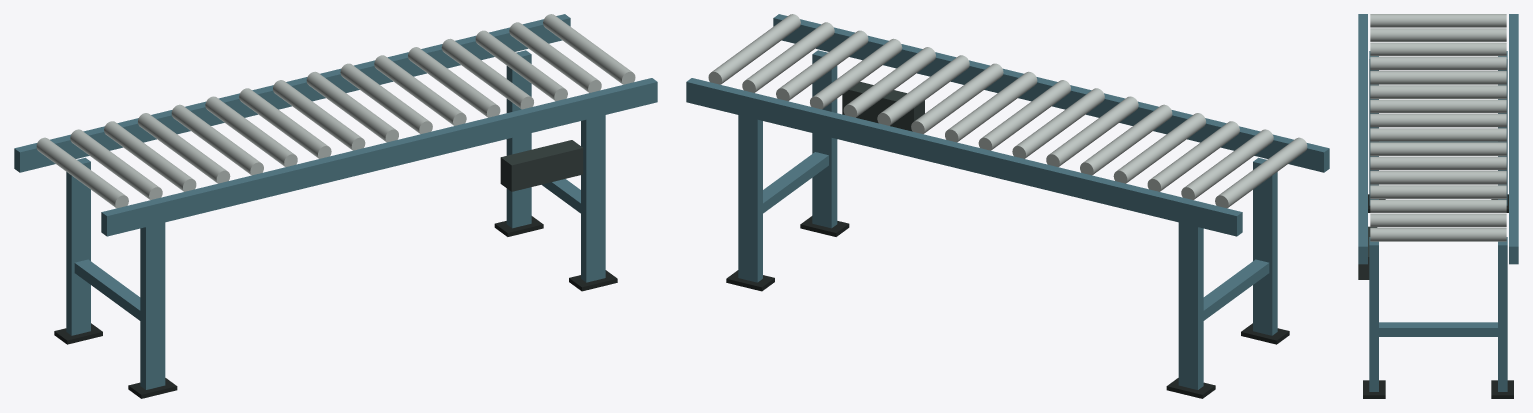
Rendered from conveyor.glb.
3 renders of one model, left to right at view 1: azimuth 30°, elevation 25°; view 2: azimuth 150°, elevation 25°; view 3: azimuth 270°, elevation 25°, orthographic. The views are drawn at different scales.
Visible parts, largest first — view 1: Roller (×16), SideRail1, SideRail-1, Leg1_-1, Leg1_1, Leg-1_-1, DriveMotor, Leg-1_1, CrossBrace-1, CrossBrace1; view 2: Roller (×16), SideRail-1, SideRail1, Leg-1_-1, Leg-1_1, Leg1_-1, Leg1_1, CrossBrace-1, CrossBrace1, DriveMotor; view 3: Roller (×16), SideRail-1, SideRail1, CrossBrace1, Leg-1_1, Leg1_1, Leg-1_-1, Leg1_-1, Foot-1_1, Foot1_1, DriveMotor, CrossBrace-1.
Boxes of the visible parts, x1,y1,x2,y2 form: Roller (×16): [36, 14, 635, 208]; SideRail1: [101, 78, 657, 236]; SideRail-1: [14, 14, 570, 172]; Leg1_-1: [140, 222, 165, 389]; Leg1_1: [581, 115, 605, 282]; Leg-1_-1: [66, 157, 90, 335]; DriveMotor: [500, 140, 583, 191]; Leg-1_1: [506, 50, 531, 228]; CrossBrace-1: [74, 259, 140, 320]; CrossBrace1: [541, 179, 580, 213]; Roller (×16): [708, 14, 1307, 208]; SideRail-1: [686, 78, 1242, 236]; SideRail1: [773, 14, 1329, 172]; Leg-1_-1: [1178, 222, 1203, 389]; Leg-1_1: [738, 115, 762, 282]; Leg1_-1: [1253, 157, 1277, 335]; Leg1_1: [812, 50, 837, 228]; CrossBrace-1: [1203, 259, 1269, 320]; CrossBrace1: [763, 152, 828, 213]; DriveMotor: [842, 82, 924, 131]; Roller (×16): [1370, 14, 1506, 241]; SideRail-1: [1509, 14, 1518, 264]; SideRail1: [1358, 14, 1367, 264]; CrossBrace1: [1379, 322, 1497, 336]; Leg-1_1: [1498, 237, 1507, 391]; Leg1_1: [1369, 237, 1378, 391]; Leg-1_-1: [1498, 51, 1507, 205]; Leg1_-1: [1369, 51, 1378, 205]; Foot-1_1: [1491, 380, 1513, 398]; Foot1_1: [1363, 380, 1385, 398]; DriveMotor: [1358, 226, 1377, 279]; CrossBrace-1: [1379, 141, 1497, 142].
Size of the model in its own units: 2.4 by 0.85 by 0.7.
